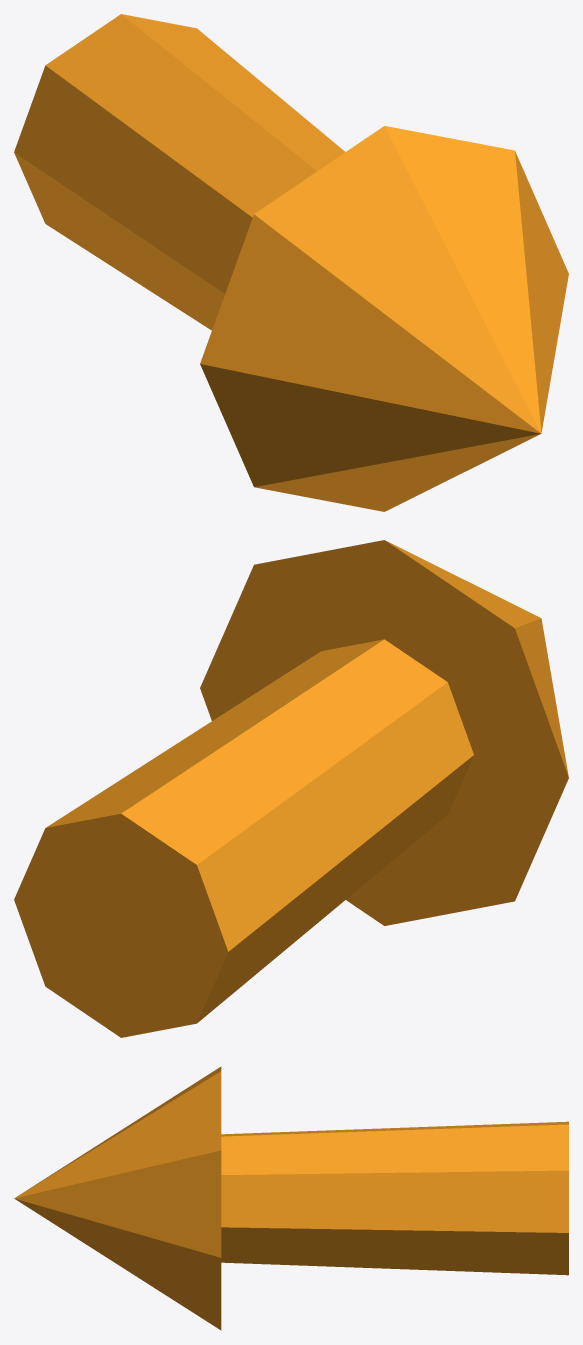
The model's file is SM_Icon_Light_Directional_02.fbx.
3 views of the same model, one above another, from view 1: azimuth 30°, elevation 25°; view 2: azimuth 150°, elevation 25°; view 3: azimuth 270°, elevation 25° (orthographic). The views are drawn at different scales.
Visible parts, largest first — view 1: SM_Icon_Light_Directional_02; view 2: SM_Icon_Light_Directional_02; view 3: SM_Icon_Light_Directional_02.
Part boxes in pixels (x1,y1,x2,y2): SM_Icon_Light_Directional_02: (14,14,568,511); SM_Icon_Light_Directional_02: (14,540,568,1037); SM_Icon_Light_Directional_02: (14,1066,568,1330).
Bounding box in the file's own units: 30.32 × 30.32 × 59.82.
